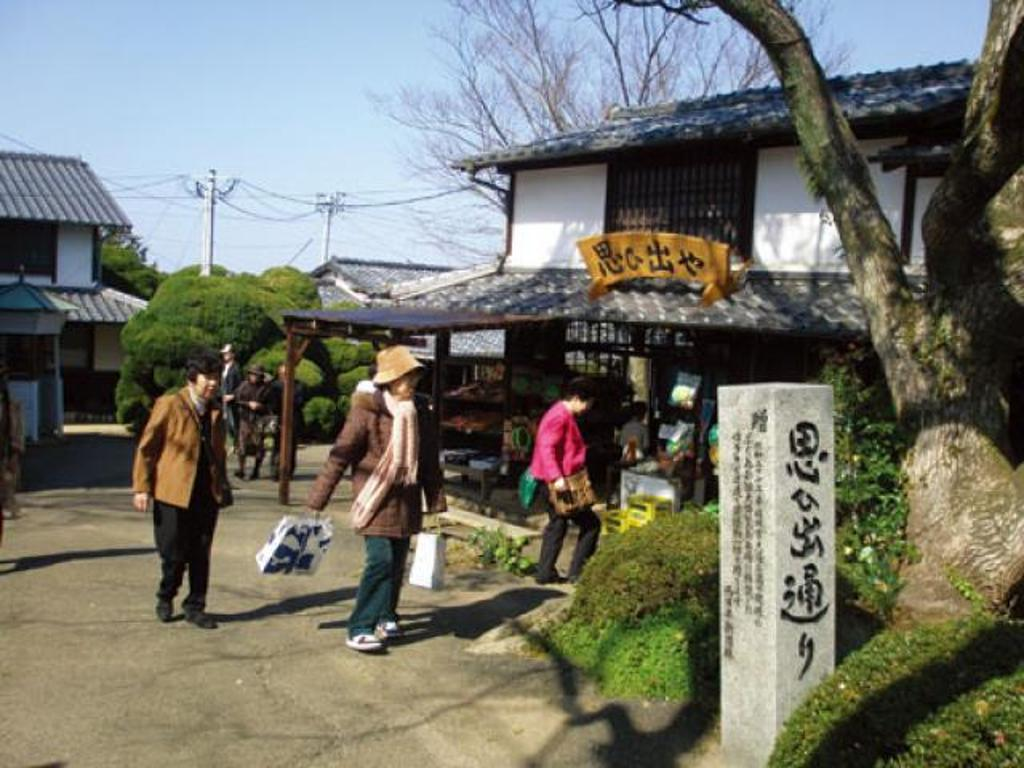face: (392, 361, 417, 396), (194, 368, 219, 398), (572, 395, 593, 416), (250, 370, 260, 384), (222, 350, 230, 360)
